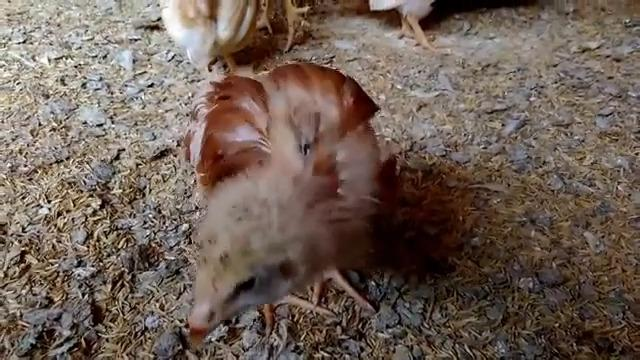AbNormal: (170, 52, 405, 343)
